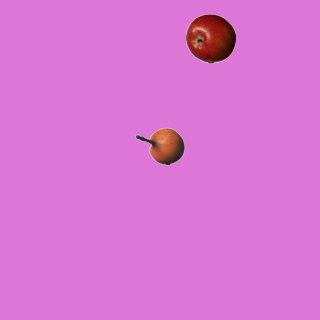Apple Braeburn: (185, 13, 235, 63)
Granadilla: (134, 121, 184, 171)
